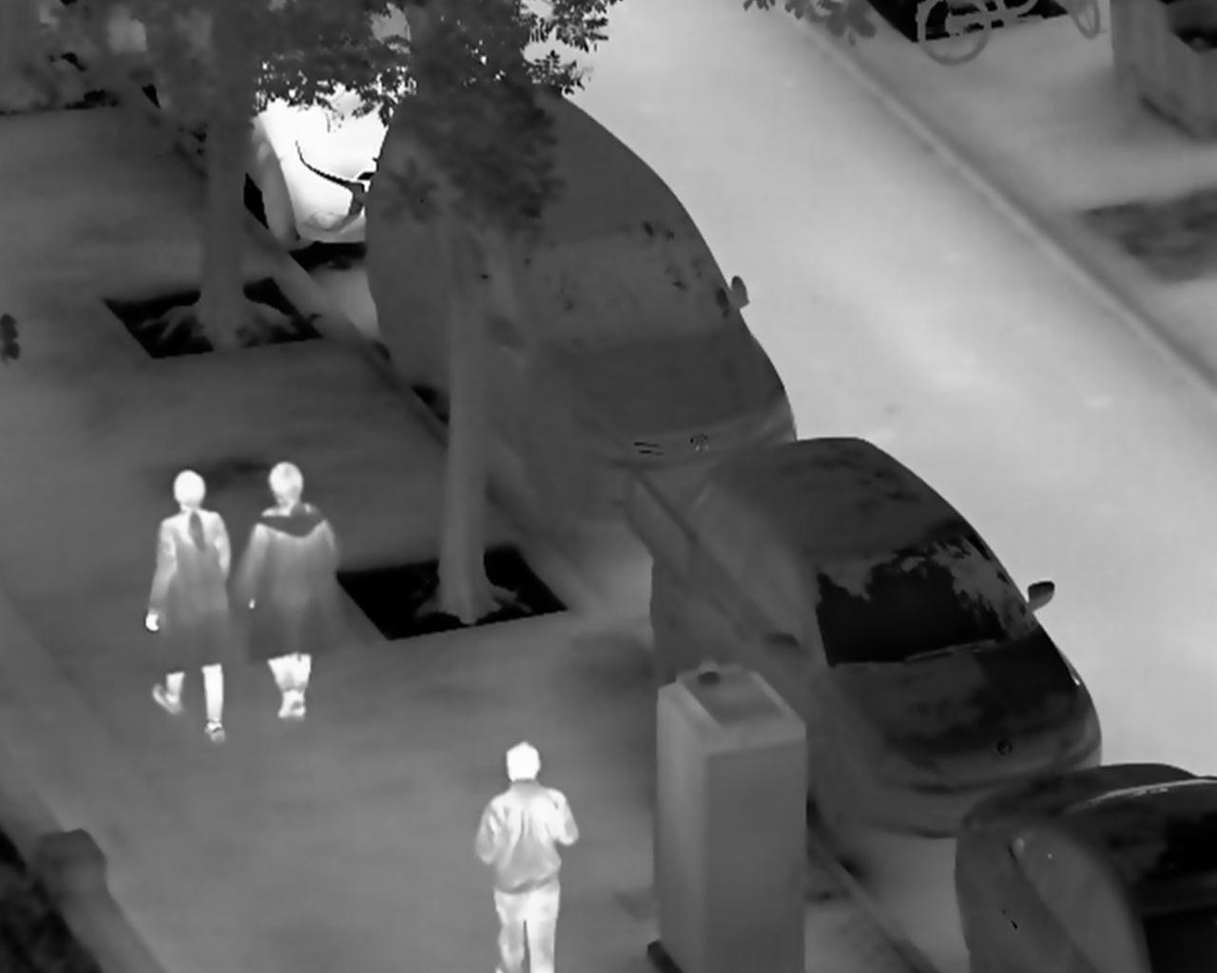person: (232, 461, 342, 729), (143, 467, 238, 747), (474, 739, 579, 973)
